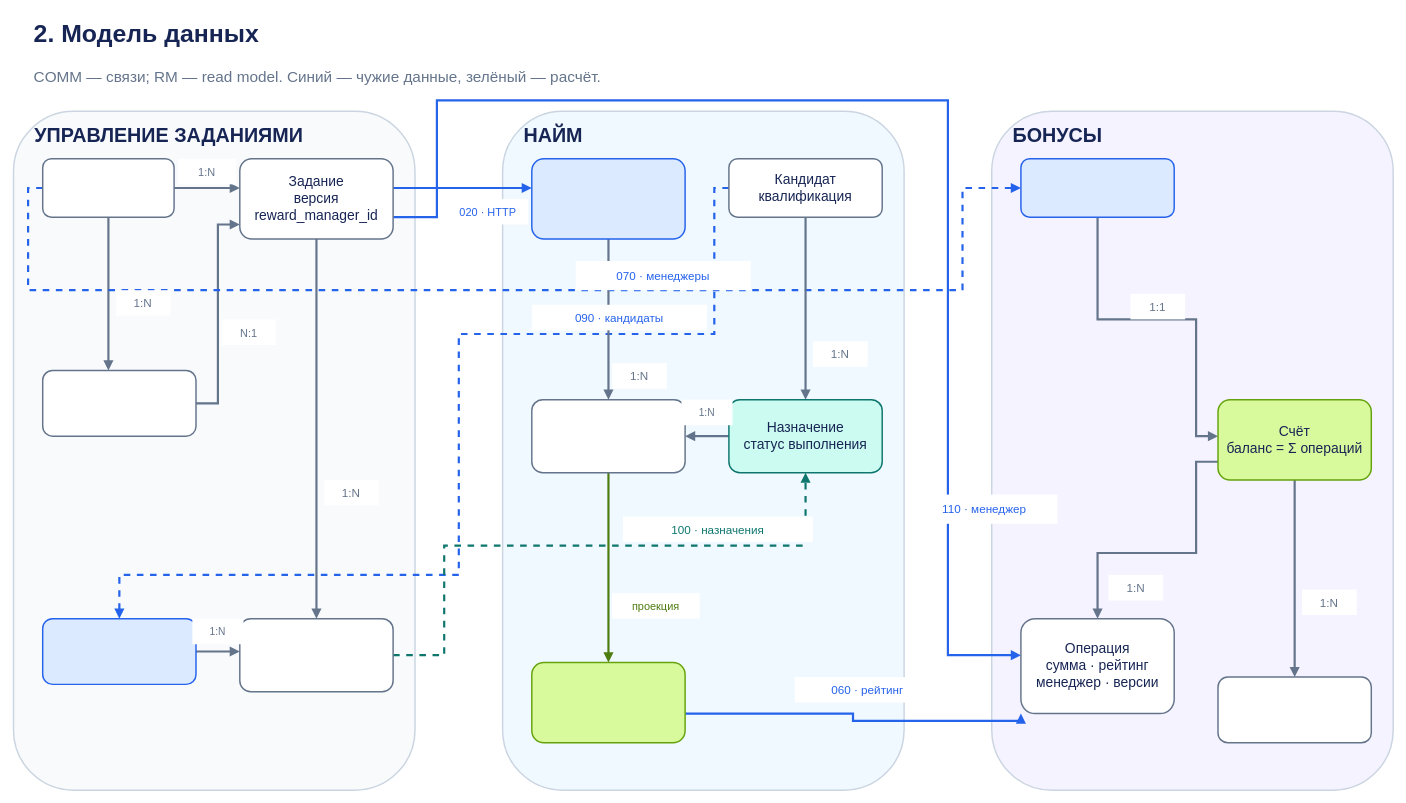
Image size: 1406x803. Some labels were removed from this diagram. Here are the shapes that lost their labels. From the top down, the centre of each, then its label:
At pixel 108 188: "Менеджер".
At pixel 608 198: "Задание (чтение у З)".
At pixel 1097 188: "Менеджер (копия)".
At pixel 119 403: "Переделка".
At pixel 608 436: "Попытка версия · результат".
At pixel 119 651: "Кандидат (копия)".
At pixel 316 655: "Назначение".
At pixel 608 702: "Статистика (RM) успехи / всего серия · рейтинг".
At pixel 1294 709: "Выплата сумма · результат".
